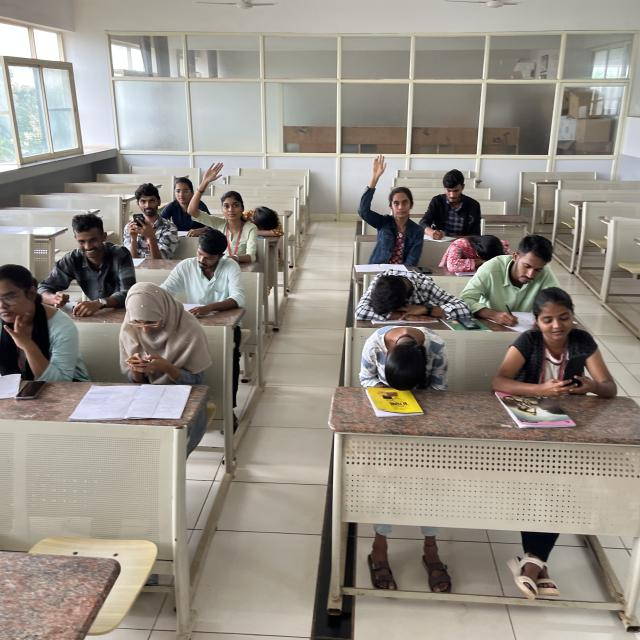Hand Rising: (354, 152, 426, 260), (192, 157, 256, 251)
Sleeping: (354, 312, 458, 395), (352, 263, 467, 326), (438, 226, 520, 273), (243, 189, 295, 246)
Using Phone: (66, 282, 214, 393), (492, 279, 629, 398), (121, 182, 174, 248)
Writing: (464, 234, 573, 328), (166, 232, 246, 316), (415, 168, 488, 241)
